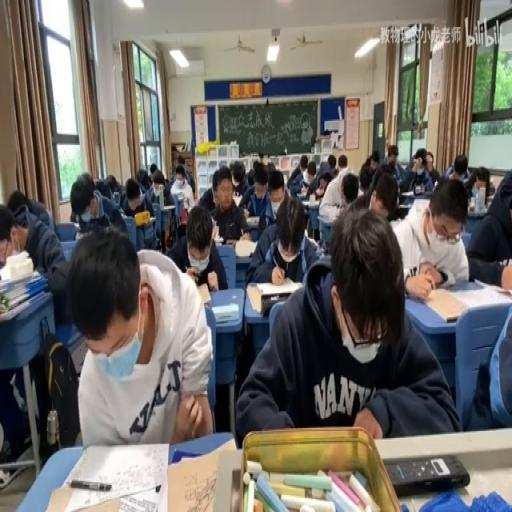calculator: (50, 441, 167, 512), (166, 442, 230, 511), (443, 282, 510, 316), (68, 334, 86, 374), (252, 279, 299, 294), (210, 300, 238, 322), (244, 284, 262, 312), (234, 238, 258, 256), (193, 282, 211, 304), (407, 196, 432, 206), (133, 214, 155, 224), (304, 235, 318, 250), (245, 214, 259, 224), (232, 194, 242, 208), (307, 196, 320, 206), (400, 189, 414, 198), (112, 189, 118, 205), (213, 234, 222, 244), (160, 204, 174, 210), (117, 209, 126, 218)
paper: (237, 205, 454, 442), (70, 225, 212, 448), (1, 195, 67, 461), (390, 175, 468, 291), (463, 170, 511, 284), (164, 202, 226, 290), (70, 171, 126, 239), (123, 174, 157, 248), (239, 162, 274, 231), (197, 160, 239, 214), (364, 169, 403, 225), (7, 190, 51, 230), (168, 164, 194, 219), (304, 155, 334, 196), (442, 152, 472, 185), (288, 155, 306, 192), (340, 171, 358, 206), (397, 159, 416, 192), (422, 151, 440, 185), (267, 175, 283, 200), (358, 165, 372, 193), (104, 173, 120, 195), (136, 168, 150, 189), (150, 172, 165, 191), (230, 166, 244, 186), (124, 189, 138, 206), (412, 150, 426, 164), (396, 205, 410, 219), (327, 154, 337, 172), (337, 155, 347, 171), (388, 145, 398, 161), (245, 168, 254, 185), (486, 179, 494, 198), (306, 165, 315, 181), (266, 160, 276, 174), (370, 151, 380, 165), (174, 175, 184, 186), (150, 161, 156, 176), (262, 150, 268, 164), (386, 162, 395, 171), (364, 158, 371, 169), (177, 155, 185, 164), (301, 164, 307, 174)
person: (384, 454, 470, 496), (260, 292, 291, 314), (224, 238, 237, 248)
